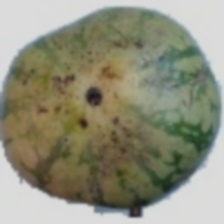watermelon: (4, 6, 203, 186)
